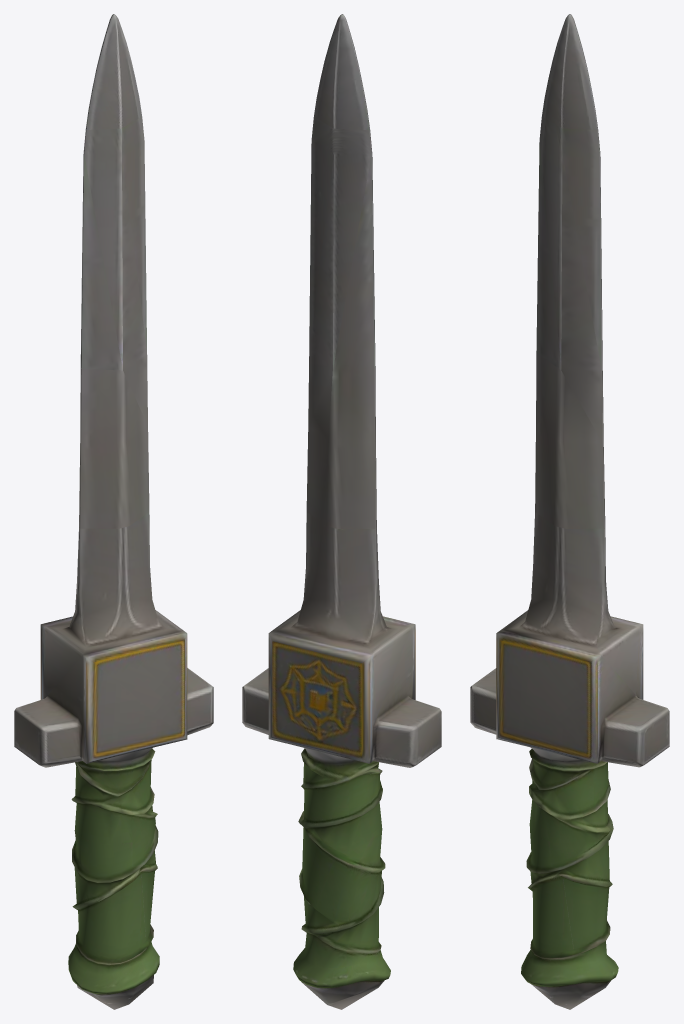
File: guildmark_dirk.glb
The picture shows the model from 3 angles, left to right: view 1: azimuth 30°, elevation 25°; view 2: azimuth 150°, elevation 25°; view 3: azimuth 330°, elevation 25°; orthographic projection.
Visible parts, largest first — view 1: tripo_node_abb9c7ee-295b-4d11-8bd8-706ac0434946; view 2: tripo_node_abb9c7ee-295b-4d11-8bd8-706ac0434946; view 3: tripo_node_abb9c7ee-295b-4d11-8bd8-706ac0434946.
Part boxes in pixels (x1,y1,x2,y2): tripo_node_abb9c7ee-295b-4d11-8bd8-706ac0434946: (14, 14, 213, 1009); tripo_node_abb9c7ee-295b-4d11-8bd8-706ac0434946: (242, 14, 441, 1009); tripo_node_abb9c7ee-295b-4d11-8bd8-706ac0434946: (470, 14, 669, 1009).
Bounding box in the file's own units: 0.2346 × 1.28 × 0.116.
1 material, 1 textured.
